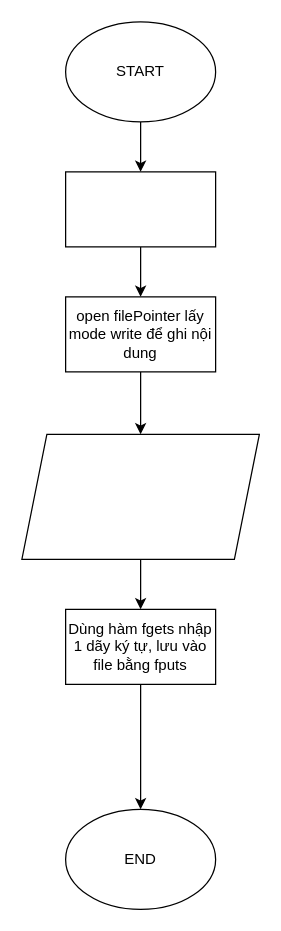
The diagram is 281 pixels wide and 931 high, and some of its shapes have lost their labels. The shapes that lost their labels are listed below. From the top down, each one's box as (x1, y1, x2, y2) in pixels, then its label:
(64, 171, 216, 247): char buffer[1000] FILE *filePointer
(21, 433, 259, 559): Nhap noi dung ban muon ghi vao file:
